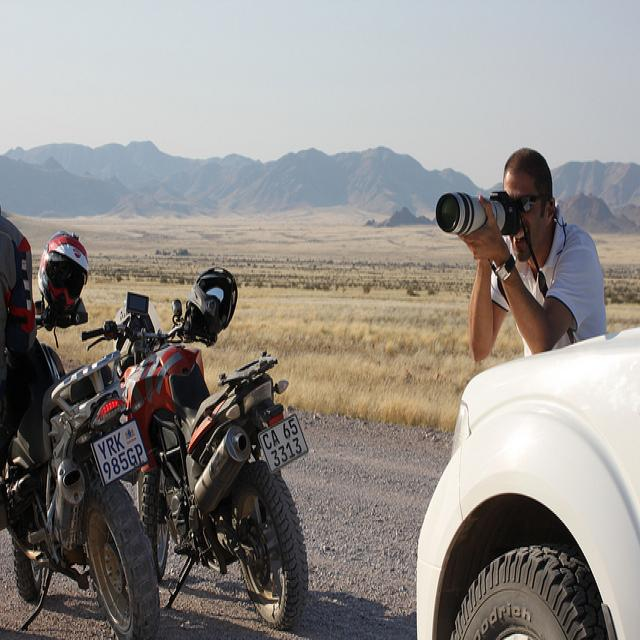motor: (85, 293, 311, 634), (3, 341, 159, 629)
